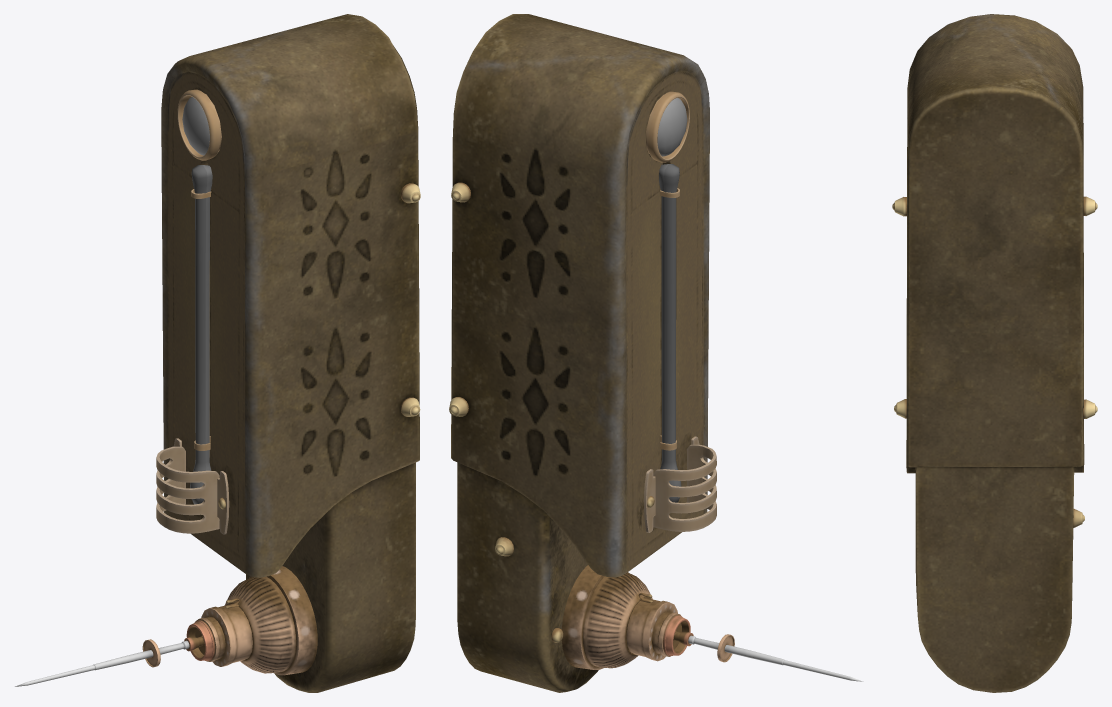
Rendered from SM_Thermometer_01.fbx.
3 views of the same model, side by side, from view 1: azimuth 30°, elevation 25°; view 2: azimuth 150°, elevation 25°; view 3: azimuth 270°, elevation 25° (orthographic). The views are drawn at different scales.
Parts seen in each view (by area): view 1: SM_Thermometer_01_LOD0; view 2: SM_Thermometer_01_LOD0; view 3: SM_Thermometer_01_LOD0.
Boxes of the visible parts, left/top/right/bottom form: SM_Thermometer_01_LOD0: left=15, top=14, right=420, bottom=692; SM_Thermometer_01_LOD0: left=449, top=14, right=863, bottom=692; SM_Thermometer_01_LOD0: left=892, top=14, right=1097, bottom=692.
Size of the model in its own units: 18.91 by 9.78 by 31.87.
Materials: 2 (2 with a texture image).
